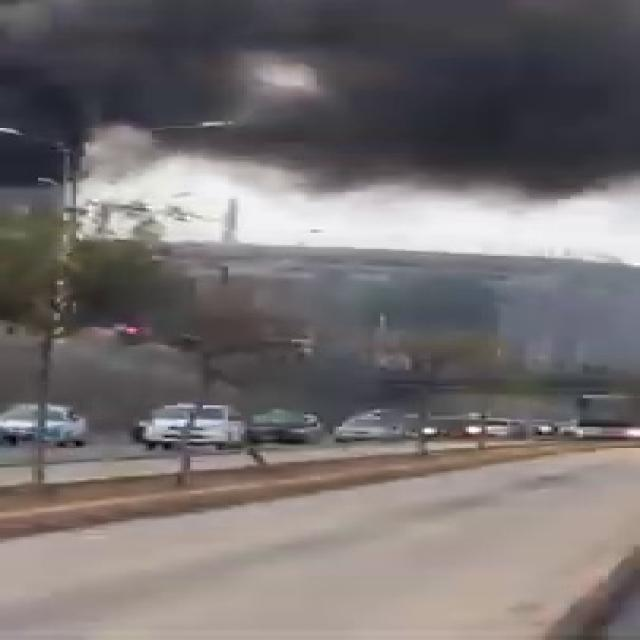Smoke: (16, 6, 640, 222)
